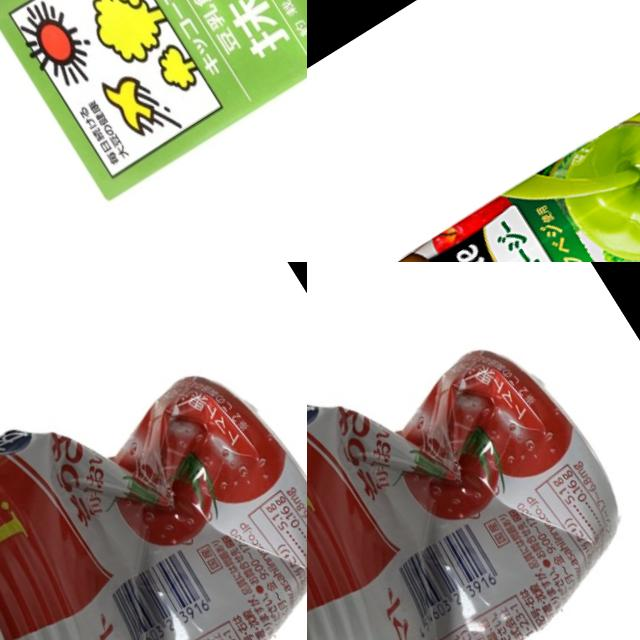Aluminium Foil: (0, 0, 307, 216), (307, 72, 640, 262)
Can: (307, 280, 640, 640), (0, 306, 307, 640)
